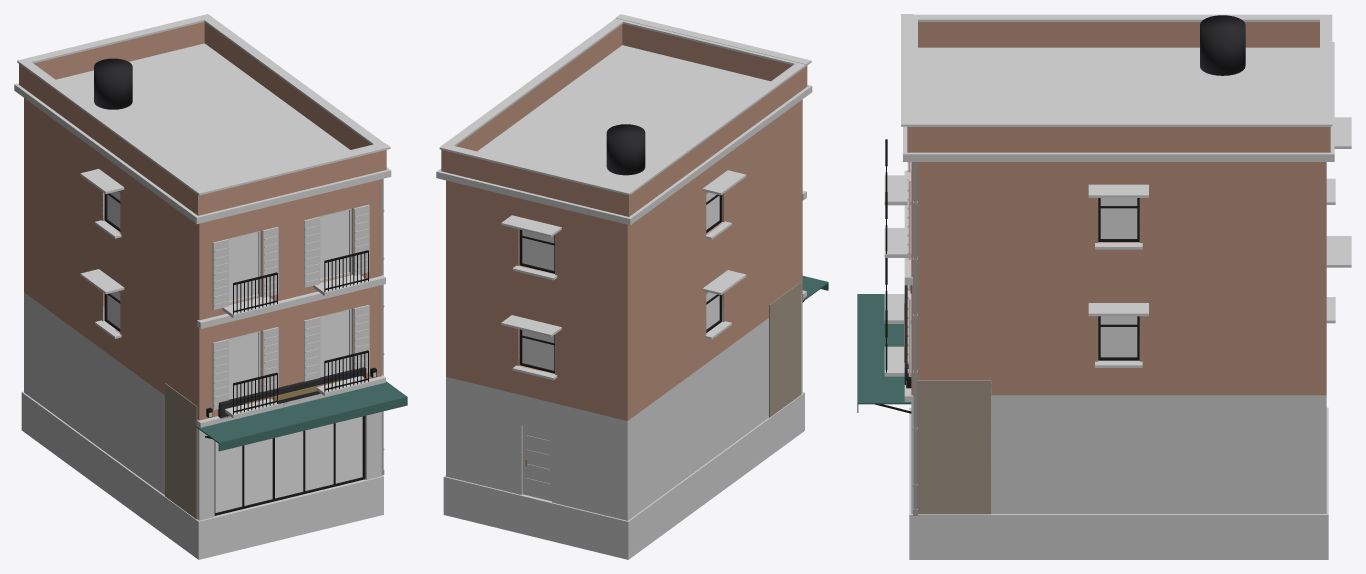
File: shop_house_6x10_3.glb
3 renders of one model, left to right at view 1: azimuth 30°, elevation 25°; view 2: azimuth 150°, elevation 25°; view 3: azimuth 270°, elevation 25°, orthographic. The views are drawn at different scales.
Visible parts, largest first — view 1: shop_house_6x10_3; view 2: shop_house_6x10_3; view 3: shop_house_6x10_3.
Boxes of the visible parts, box(x1,y1,x2,y2) form: shop_house_6x10_3: box(14, 14, 407, 559); shop_house_6x10_3: box(436, 14, 828, 559); shop_house_6x10_3: box(857, 14, 1351, 559).
Size of the model in its own units: 7.22 by 12.1 by 11.91.
